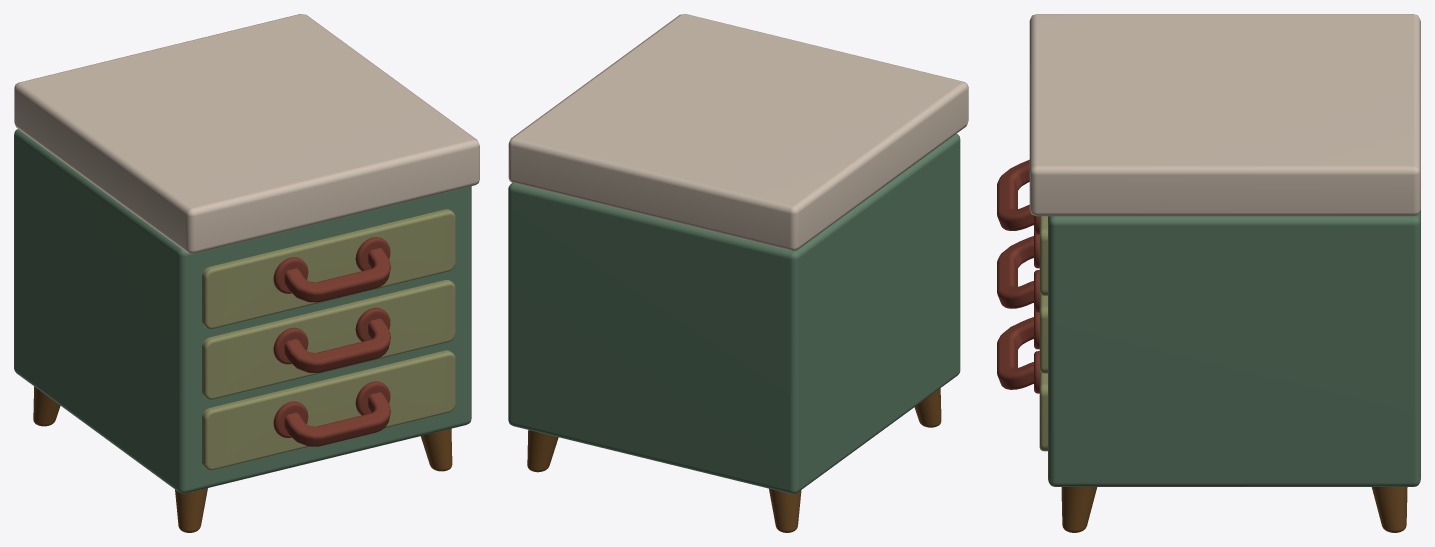
Rendered from SM_Kitchen_Cabinet_C.fbx.
The picture shows the model from 3 angles, left to right: view 1: azimuth 30°, elevation 25°; view 2: azimuth 150°, elevation 25°; view 3: azimuth 270°, elevation 25°; orthographic projection. The views are drawn at different scales.
Visible parts, largest first — view 1: Cube.028, Cube.026, Cube.027, Cylinder.009, Plane.029, Plane.030, Plane.028, Cylinder.016, Cylinder.014, Cylinder.015; view 2: Cube.026, Cube.028, Cylinder.009; view 3: Cube.026, Cube.028, Cylinder.009, Cube.027, Plane.030, Plane.028, Plane.029.
Part boxes in pixels (x1=…): Cube.028: x1=14, y1=14, x2=479, y2=253; Cube.026: x1=14, y1=129, x2=471, y2=493; Cube.027: x1=202, y1=209, x2=455, y2=470; Cylinder.009: x1=33, y1=386, x2=452, y2=532; Plane.029: x1=284, y1=248, x2=390, y2=302; Plane.030: x1=284, y1=392, x2=390, y2=446; Plane.028: x1=284, y1=318, x2=390, y2=372; Cylinder.016: x1=273, y1=381, x2=390, y2=437; Cylinder.014: x1=273, y1=307, x2=390, y2=364; Cylinder.015: x1=273, y1=237, x2=390, y2=293; Cube.026: x1=508, y1=134, x2=960, y2=494; Cube.028: x1=508, y1=14, x2=968, y2=250; Cylinder.009: x1=527, y1=388, x2=941, y2=532; Cube.026: x1=1048, y1=209, x2=1420, y2=486; Cube.028: x1=1029, y1=14, x2=1420, y2=216; Cylinder.009: x1=1061, y1=487, x2=1407, y2=532; Cube.027: x1=1039, y1=216, x2=1047, y2=451; Plane.030: x1=997, y1=317, x2=1033, y2=389; Plane.028: x1=997, y1=236, x2=1033, y2=308; Plane.029: x1=997, y1=159, x2=1033, y2=230.
Bounding box in the file's own units: 100 × 110 × 114.
